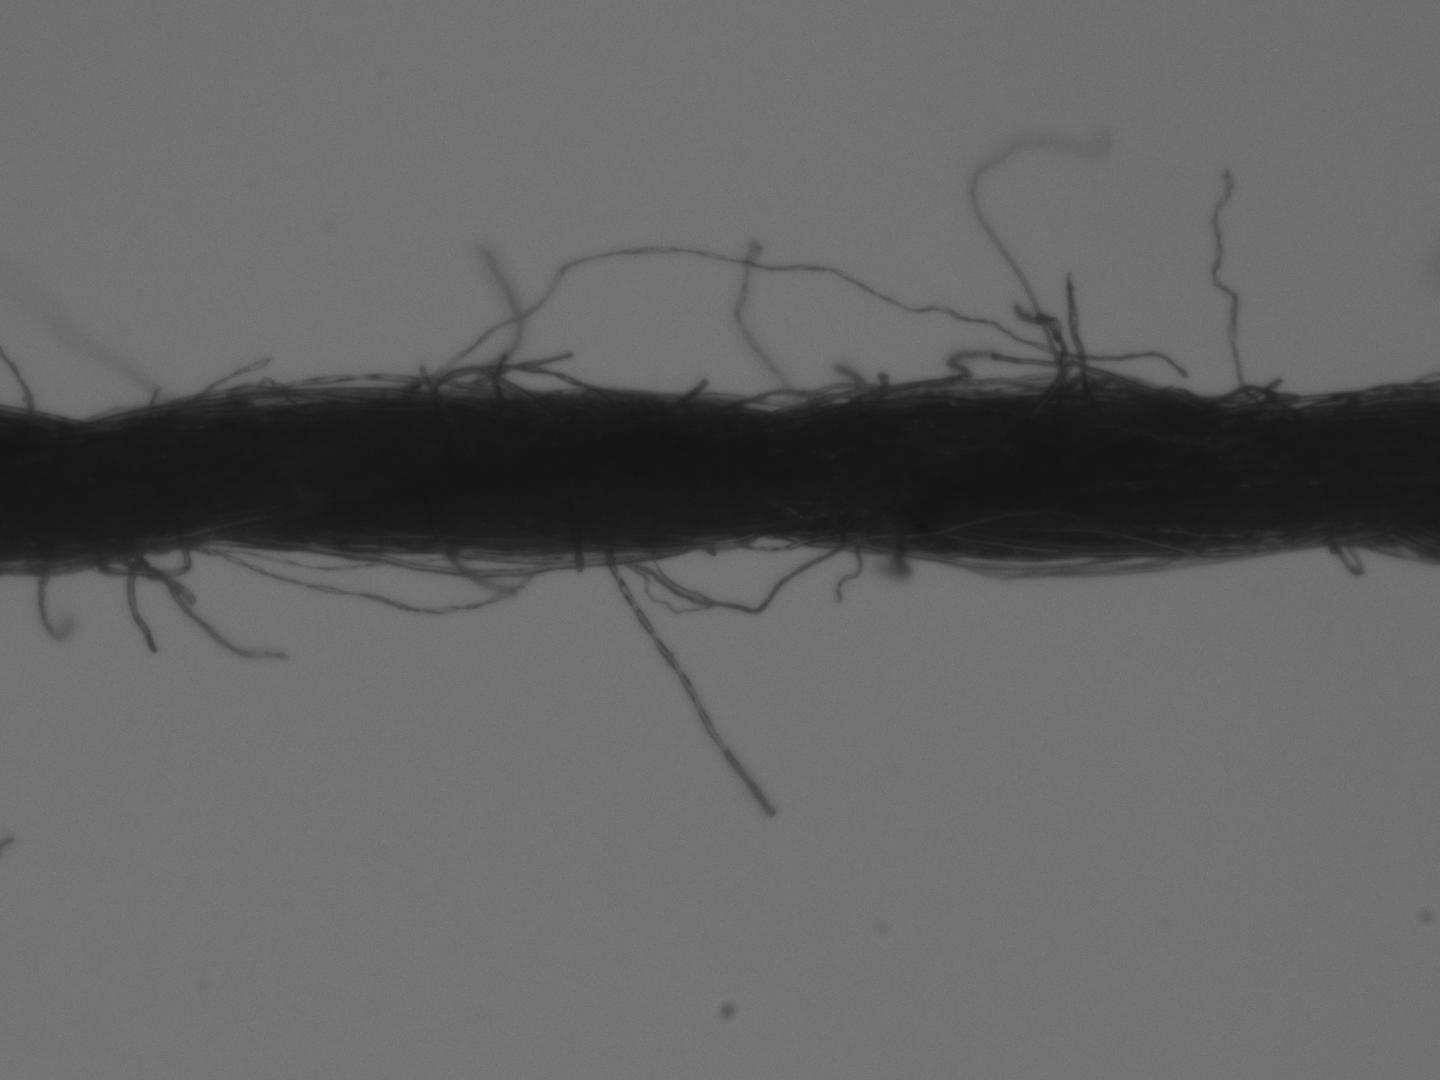loop_fiber: (617, 533, 842, 621), (317, 546, 642, 582), (1037, 358, 1198, 411), (923, 550, 1186, 582), (438, 363, 586, 404), (290, 372, 480, 395), (169, 385, 357, 405), (722, 383, 824, 413), (99, 545, 185, 579), (1219, 381, 1288, 404)
protruding_fiber: (596, 540, 777, 826), (1211, 167, 1253, 406), (122, 555, 161, 656), (1061, 275, 1093, 390), (835, 547, 865, 609)
